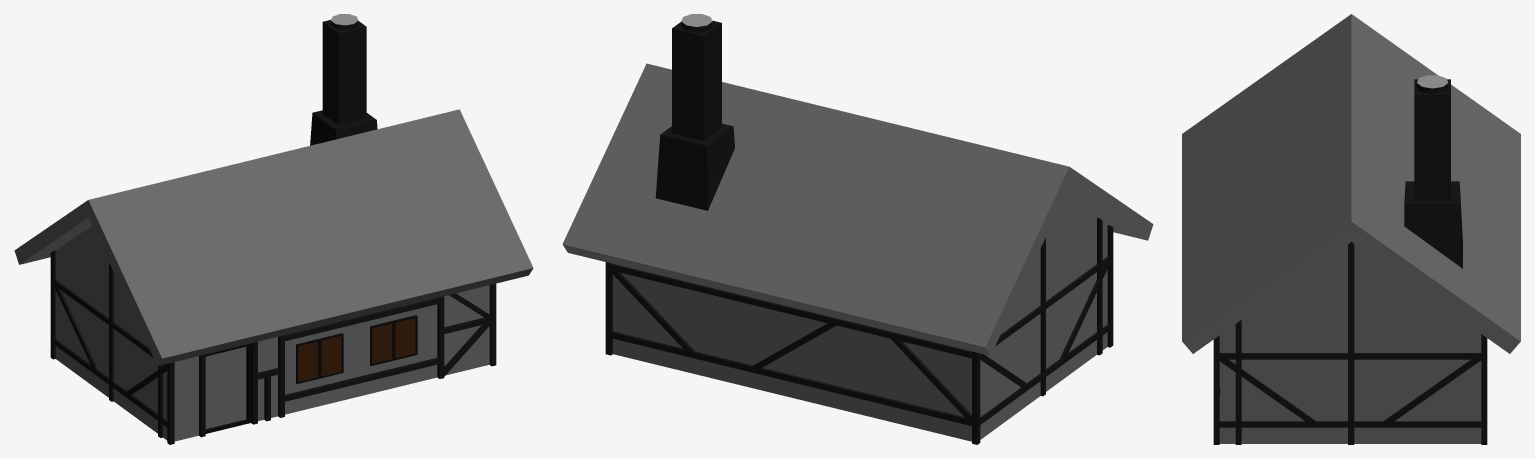
Rendered from House1_Stage_Final.FBX.
3 renders of one model, left to right at view 1: azimuth 30°, elevation 25°; view 2: azimuth 150°, elevation 25°; view 3: azimuth 270°, elevation 25°, orthographic. The views are drawn at different scales.
Visible parts, largest first — view 1: House_Stage_5; view 2: House_Stage_5; view 3: House_Stage_5.
Part boxes in pixels (x1,y1,x2,y2): House_Stage_5: (14, 14, 533, 444); House_Stage_5: (562, 14, 1153, 444); House_Stage_5: (1182, 14, 1520, 444).
Size of the model in its own units: 160 by 119 by 110.
